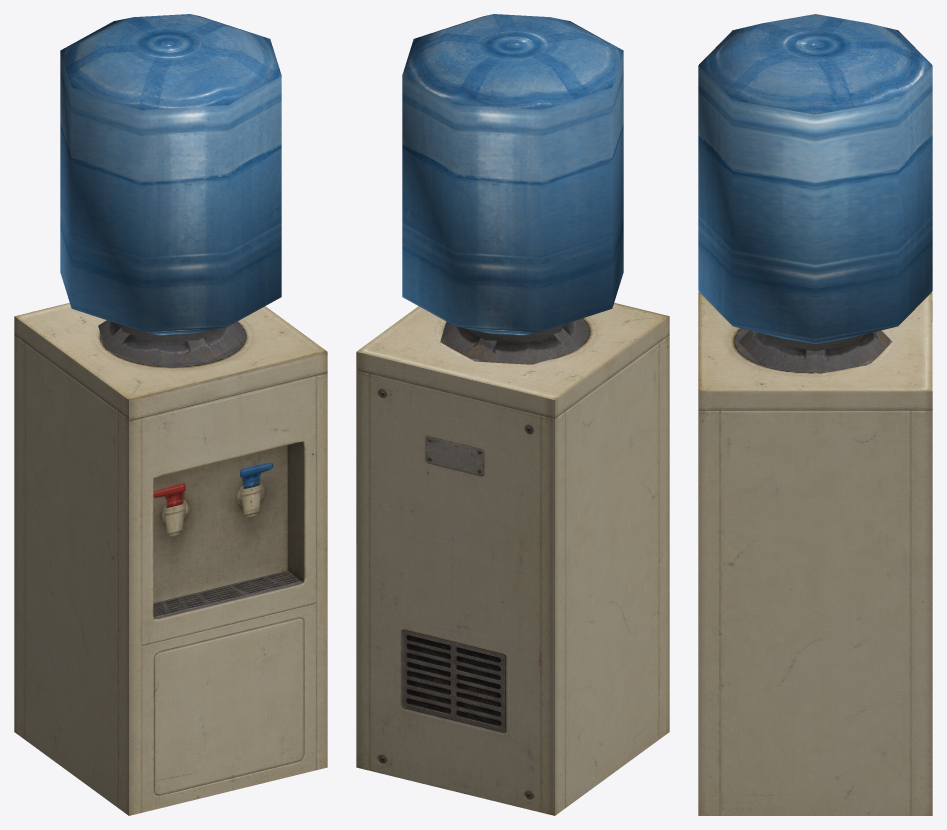
Rendered from water-cooler.glb.
The picture shows the model from 3 angles, left to right: view 1: azimuth 30°, elevation 25°; view 2: azimuth 150°, elevation 25°; view 3: azimuth 270°, elevation 25°; orthographic projection. The views are drawn at different scales.
Parts seen in each view (by area): view 1: Cube.002; view 2: Cube.002; view 3: Cube.002.
Boxes of the visible parts, bbox=[...] form: Cube.002: bbox=[14, 14, 327, 815]; Cube.002: bbox=[356, 14, 669, 815]; Cube.002: bbox=[698, 14, 932, 815].
Bounding box in the file's own units: 1 × 3.39 × 1.
1 material, 1 textured.
